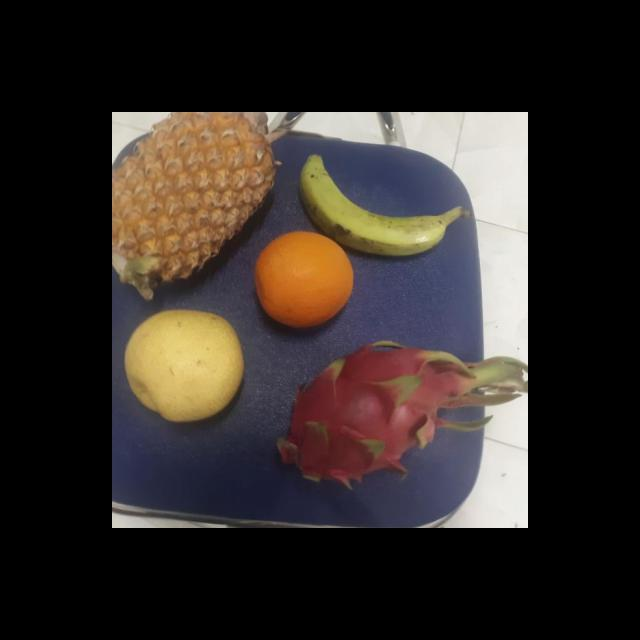banana: (299, 148, 452, 259)
orange: (251, 228, 355, 330)
pear: (121, 304, 245, 424)
pineapple: (112, 112, 277, 291)
pitaya: (275, 340, 463, 484)
